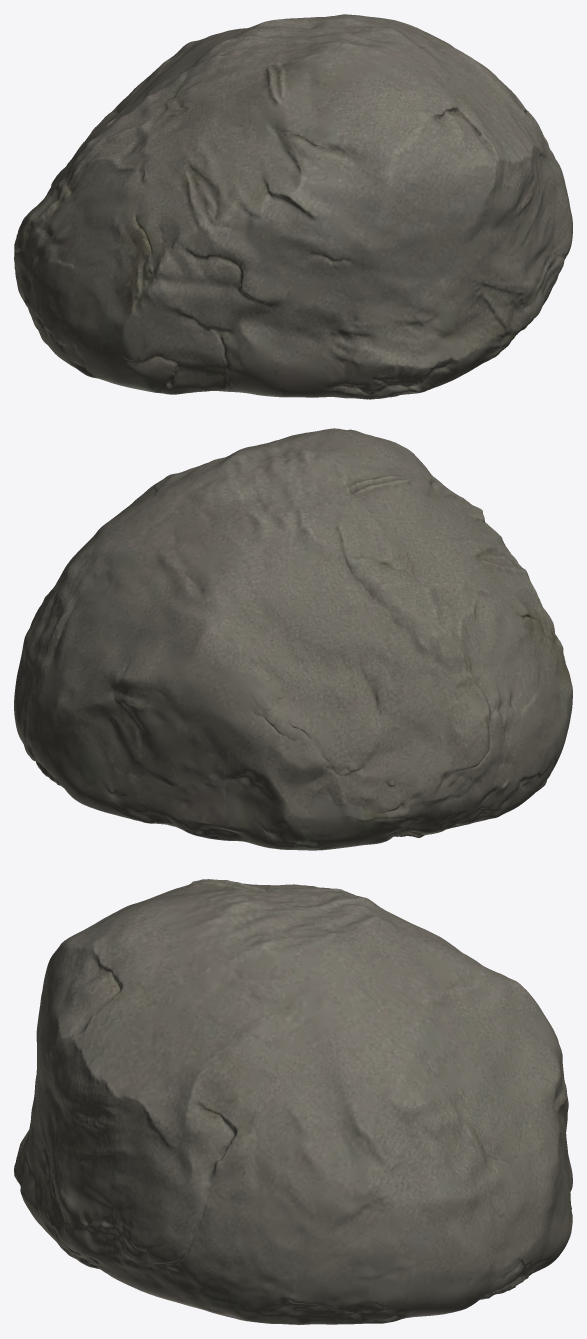
Rendered from Meshy_AI_medium_boulder_c_0823024834_image-to-3d-texture.glb.
3 renders of one model, top to bottom at view 1: azimuth 30°, elevation 25°; view 2: azimuth 150°, elevation 25°; view 3: azimuth 270°, elevation 25°, orthographic. The views are drawn at different scales.
Visible parts, largest first — view 1: mesh_node; view 2: mesh_node; view 3: mesh_node.
Boxes of the visible parts, x1=… form: mesh_node: x1=14, y1=14, x2=572, y2=399; mesh_node: x1=14, y1=428, x2=572, y2=850; mesh_node: x1=14, y1=879, x2=572, y2=1324.
Size of the model in its own units: 1.9 by 1.06 by 1.68.
1 material, 1 textured.
